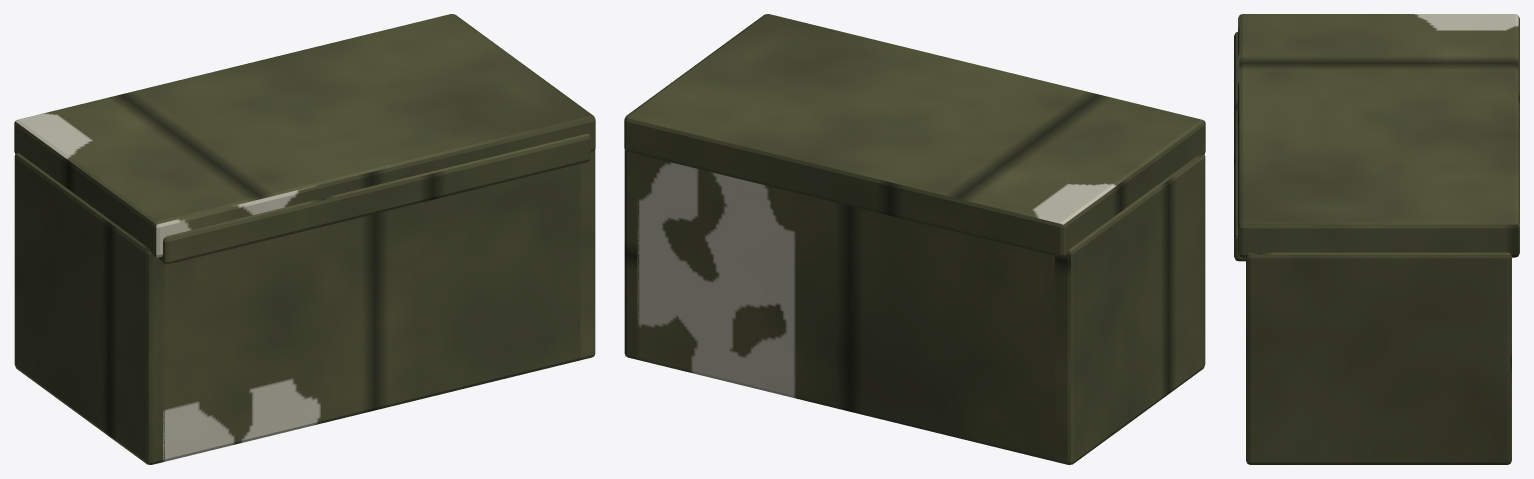
The model's file is ammo_crate.glb.
3 views of the same model, side by side, from view 1: azimuth 30°, elevation 25°; view 2: azimuth 150°, elevation 25°; view 3: azimuth 270°, elevation 25° (orthographic).
Parts seen in each view (by area): view 1: ammo_crate; view 2: ammo_crate; view 3: ammo_crate.
Part boxes in pixels (bbox=[...]): ammo_crate: bbox=[14, 14, 595, 464]; ammo_crate: bbox=[624, 14, 1205, 464]; ammo_crate: bbox=[1234, 14, 1519, 464].
Size of the model in its own units: 0.65 by 0.34 by 0.365.
Materials: 1 (1 with a texture image).
